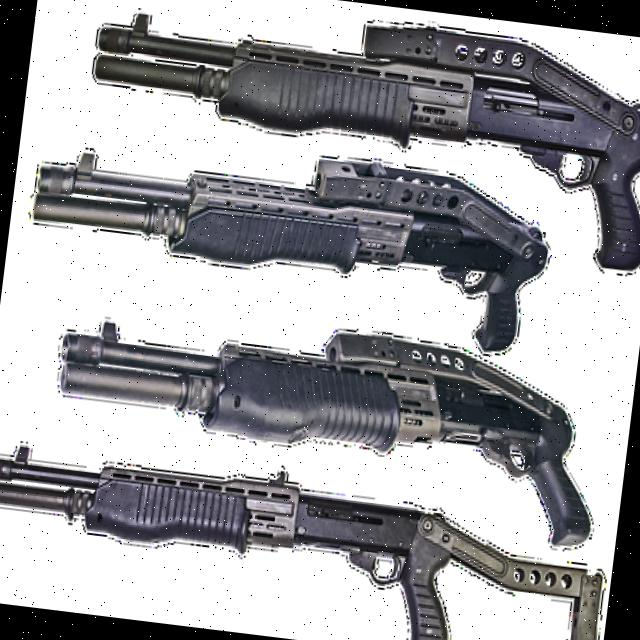Shotgun: (76, 0, 640, 274), (26, 296, 612, 547), (16, 133, 574, 360), (0, 441, 608, 640)
